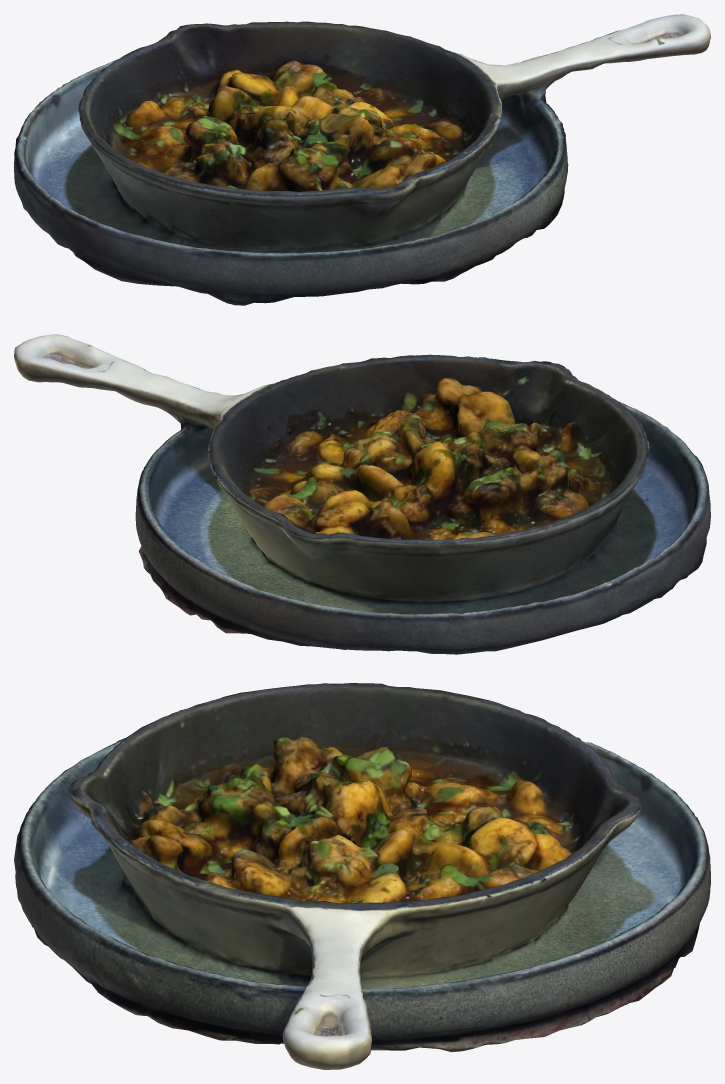
Rendered from crevettes-sautees-a-l-ail.ar.glb.
3 views of the same model, one above another, from view 1: azimuth 30°, elevation 25°; view 2: azimuth 150°, elevation 25°; view 3: azimuth 270°, elevation 25° (orthographic). The views are drawn at different scales.
Visible parts, largest first — view 1: /ObjectCapture/Geometry/Mesh; view 2: /ObjectCapture/Geometry/Mesh; view 3: /ObjectCapture/Geometry/Mesh.
Boxes of the visible parts, x1=… form: /ObjectCapture/Geometry/Mesh: x1=14, y1=14, x2=710, y2=305; /ObjectCapture/Geometry/Mesh: x1=14, y1=334, x2=710, y2=654; /ObjectCapture/Geometry/Mesh: x1=14, y1=683, x2=710, y2=1069.
Size of the model in its own units: 0.278 by 0.0413 by 0.2079.
1 material, 1 textured.
